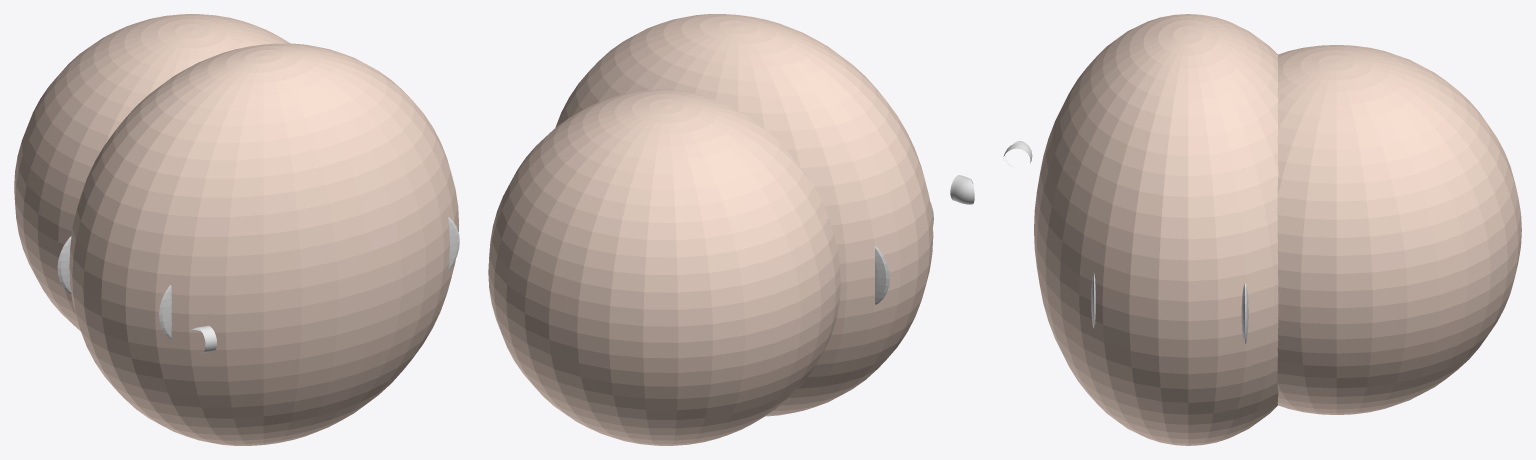
The model's file is fetus_week_28.glb.
The picture shows the model from 3 angles, left to right: view 1: azimuth 30°, elevation 25°; view 2: azimuth 150°, elevation 25°; view 3: azimuth 270°, elevation 25°; orthographic projection. The views are drawn at different scales.
Visible parts, largest first — view 1: fetal_body_w28, fetal_head_w28, arm_-1_w28, leg_-1_w28; view 2: fetal_head_w28, fetal_body_w28, arm_-1_w28, BézierCurve; view 3: fetal_body_w28, fetal_head_w28.
Boxes of the visible parts, box(x1,y1,x2,y2) form: fetal_body_w28: box(69, 43, 458, 445); fetal_head_w28: box(14, 14, 290, 331); arm_-1_w28: box(57, 236, 71, 293); leg_-1_w28: box(159, 285, 171, 338); fetal_head_w28: box(488, 89, 840, 445); fetal_body_w28: box(555, 14, 933, 416); arm_-1_w28: box(875, 246, 889, 304); BézierCurve: box(950, 175, 974, 204); fetal_body_w28: box(1034, 14, 1278, 445); fetal_head_w28: box(1277, 45, 1521, 414).
Bounding box in the file's own units: 0.252 × 0.252 × 0.3024.
